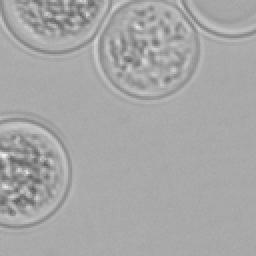picoshell: (92, 0, 200, 100), (0, 116, 70, 226), (176, 0, 254, 40)
